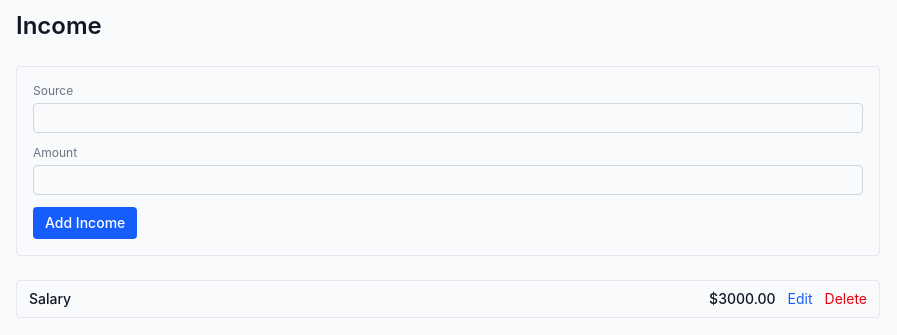
IncomePage › deletes an income entry after confirmation and refetches the list
Expected: the text "Salary" is shown, [29,289,71,309]
What coordinates should you click on to do the following:
click the button "Delete"
I would click on:
 (846, 299)
Its box is [825,289,867,309].
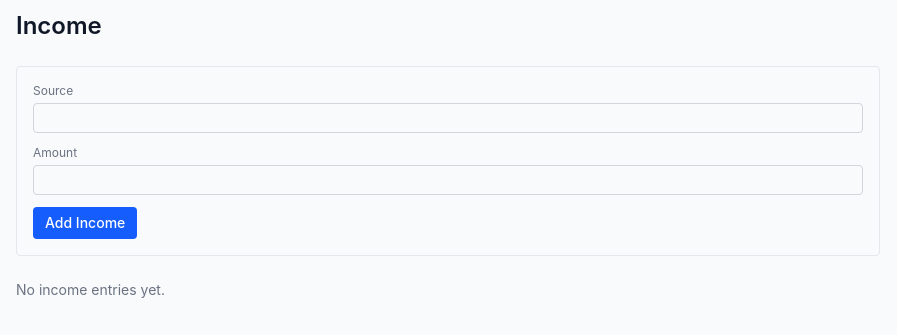
Expected: the text "No income entries yet." is shown, [16,281,165,298]
